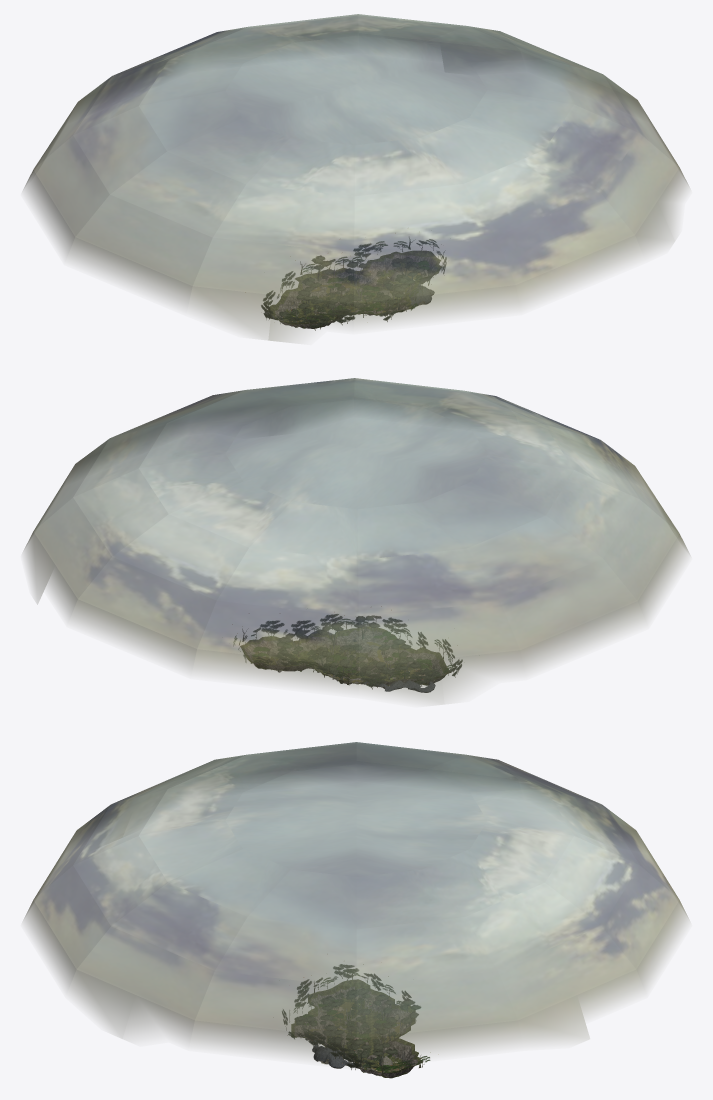
File: recovered_map_mp9.glb
3 renders of one model, top to bottom at view 1: azimuth 30°, elevation 25°; view 2: azimuth 150°, elevation 25°; view 3: azimuth 270°, elevation 25°, orthographic.
Visible parts, largest first — view 1: S_congo18_sky01, W_congo2_ground01, W_treebranch2, W_rock3, W_treebranch, W_congo2_leaves7, W_treetop3; view 2: S_congo18_sky01, W_rock3, W_treebranch2, W_congo2_ground01, W_treebranch, W_congo2_leaves7, W_treetop3; view 3: S_congo18_sky01, W_congo2_ground01, W_treebranch2, W_rock3, W_treebranch, W_congo2_leaves7, W_treetop3.
Boxes of the visible parts, left/top/right/bottom form: S_congo18_sky01: left=23, top=14, right=689, bottom=342; W_congo2_ground01: left=268, top=251, right=440, bottom=328; W_treebranch2: left=279, top=255, right=424, bottom=319; W_rock3: left=275, top=254, right=437, bottom=328; W_treebranch: left=261, top=240, right=446, bottom=328; W_congo2_leaves7: left=267, top=239, right=438, bottom=321; W_treetop3: left=274, top=247, right=442, bottom=322; S_congo18_sky01: left=23, top=378, right=689, bottom=704; W_rock3: left=244, top=629, right=444, bottom=688; W_treebranch2: left=277, top=616, right=436, bottom=677; W_congo2_ground01: left=240, top=626, right=451, bottom=685; W_treebranch: left=239, top=614, right=462, bottom=687; W_congo2_leaves7: left=234, top=619, right=454, bottom=683; W_treetop3: left=243, top=620, right=440, bottom=678; S_congo18_sky01: left=23, top=742, right=689, bottom=1062; W_congo2_ground01: left=291, top=979, right=422, bottom=1078; W_treebranch2: left=294, top=988, right=420, bottom=1062; W_rock3: left=294, top=987, right=418, bottom=1077; W_treebranch: left=282, top=964, right=415, bottom=1067; W_congo2_leaves7: left=288, top=969, right=430, bottom=1072; W_treetop3: left=298, top=976, right=397, bottom=1069.
Size of what is drawn, in the model's own units: 830 by 294 by 815.
52 materials, 52 textured.
